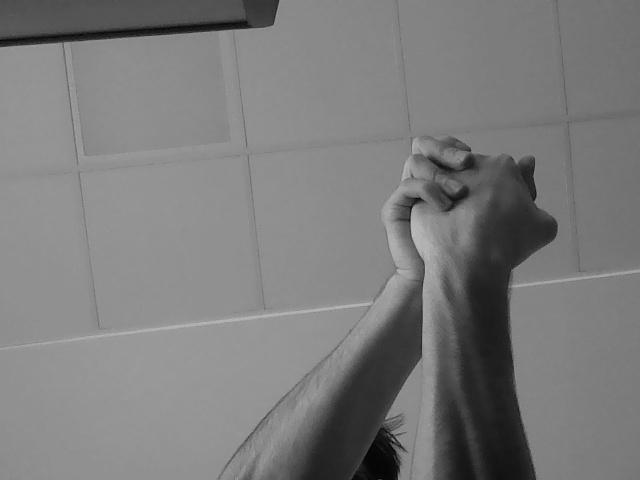friend: (374, 132, 576, 288)
